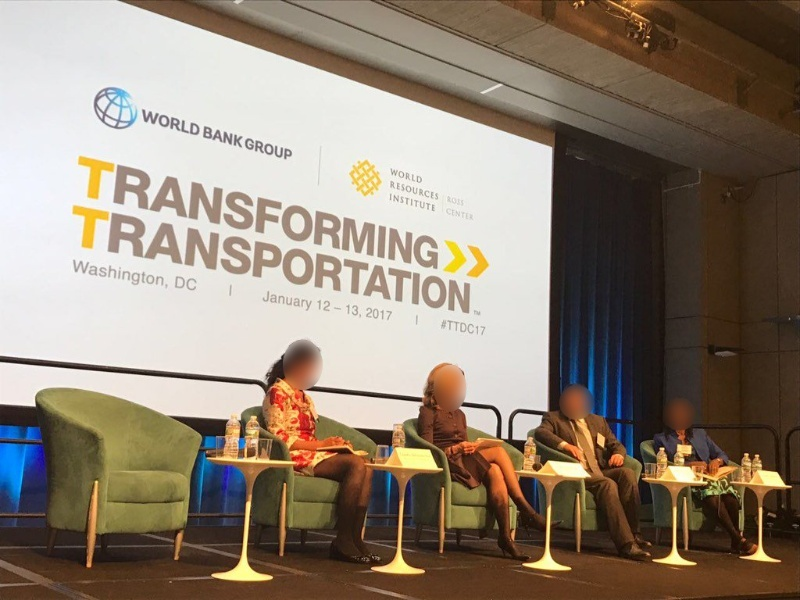text: (81, 154, 96, 270), (97, 154, 112, 270), (113, 154, 128, 270), (129, 154, 144, 270), (145, 154, 160, 270), (161, 154, 176, 270), (177, 154, 192, 270), (193, 154, 208, 270), (209, 154, 224, 270), (225, 154, 240, 270), (241, 154, 256, 270), (257, 154, 272, 270), (273, 154, 288, 270), (289, 154, 304, 270), (305, 154, 320, 270), (321, 154, 336, 270), (337, 154, 352, 270), (353, 154, 368, 270), (369, 154, 384, 270), (385, 154, 400, 270), (401, 154, 416, 270), (417, 154, 432, 270), (81, 203, 96, 315), (97, 203, 112, 315), (113, 203, 128, 315), (129, 203, 144, 315), (145, 203, 160, 315), (161, 203, 176, 315), (177, 203, 192, 315), (193, 203, 208, 315), (209, 203, 224, 315), (225, 203, 240, 315), (241, 203, 256, 315), (257, 203, 272, 315), (273, 203, 288, 315), (289, 203, 304, 315), (305, 203, 320, 315), (321, 203, 336, 315), (337, 203, 352, 315), (353, 203, 368, 315), (369, 203, 384, 315), (385, 203, 400, 315), (401, 203, 416, 315), (417, 203, 432, 315), (433, 203, 448, 315), (449, 203, 464, 315), (69, 203, 80, 315), (433, 154, 440, 270), (465, 203, 472, 315), (81, 258, 96, 291), (97, 258, 112, 291), (113, 258, 128, 291), (129, 258, 144, 291), (145, 258, 160, 291), (145, 108, 160, 136), (161, 108, 176, 136), (177, 108, 192, 136), (209, 124, 224, 150), (225, 124, 240, 150), (161, 258, 172, 291), (257, 137, 272, 161), (273, 137, 288, 161), (273, 290, 288, 312), (289, 290, 304, 312), (401, 180, 416, 201), (417, 180, 432, 201), (321, 299, 336, 319), (337, 299, 352, 319), (401, 166, 416, 185), (401, 193, 416, 211), (417, 193, 432, 211), (245, 137, 256, 161), (177, 275, 192, 292), (449, 319, 464, 336), (465, 319, 480, 336), (78, 154, 80, 270), (73, 258, 80, 291), (369, 307, 384, 322), (193, 108, 201, 136), (390, 180, 400, 201), (449, 207, 464, 221), (305, 290, 314, 312), (449, 195, 465, 207), (390, 166, 400, 185), (353, 299, 362, 319), (390, 193, 400, 211), (264, 290, 272, 312), (433, 180, 440, 201), (465, 207, 475, 221), (203, 124, 208, 150), (289, 137, 294, 161), (385, 307, 393, 322), (417, 166, 423, 185), (193, 275, 199, 292), (442, 319, 448, 336), (481, 319, 486, 336), (241, 124, 244, 150), (317, 299, 320, 319), (474, 308, 480, 317), (433, 193, 436, 211), (366, 307, 368, 322), (143, 108, 144, 136), (175, 275, 176, 292), (447, 207, 448, 221), (447, 195, 448, 207)
